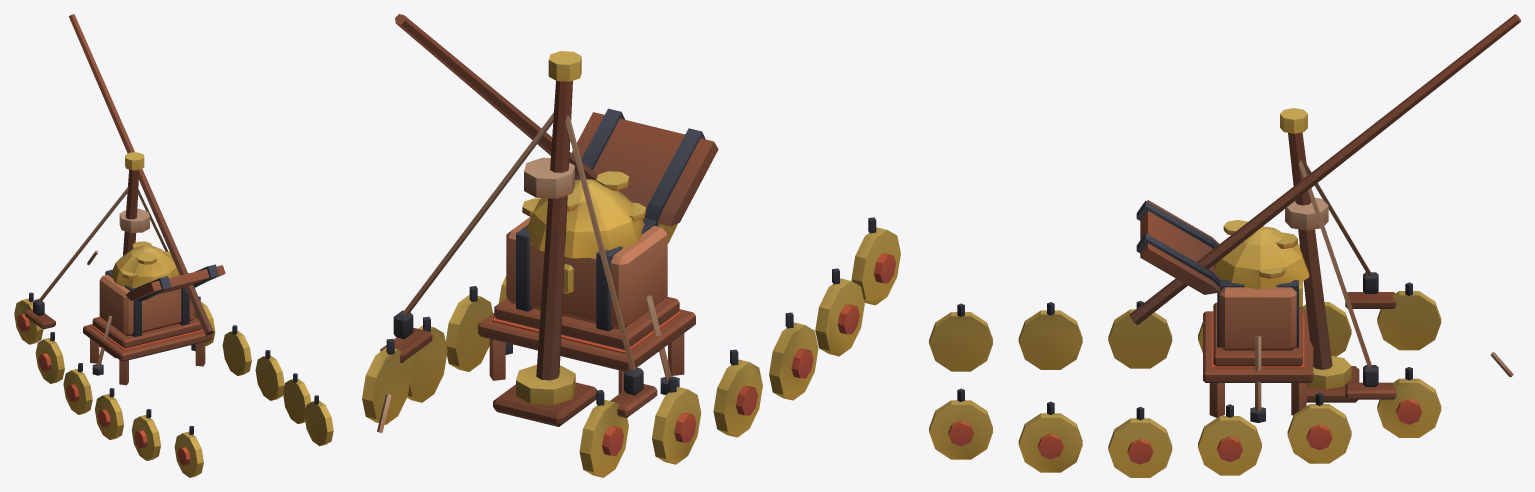
Rendered from gambler-skill.glb.
The picture shows the model from 3 angles, left to right: view 1: azimuth 30°, elevation 25°; view 2: azimuth 150°, elevation 25°; view 3: azimuth 270°, elevation 25°; orthographic projection. The views are drawn at different scales.
Parts seen in each view (by area): view 1: skill; view 2: skill; view 3: skill.
Part boxes in pixels (x1,y1,x2,y2): skill: (14, 14, 333, 477); skill: (362, 14, 900, 477); skill: (929, 14, 1520, 477).
Size of the model in its own units: 2.2 by 3.6 by 4.62.
